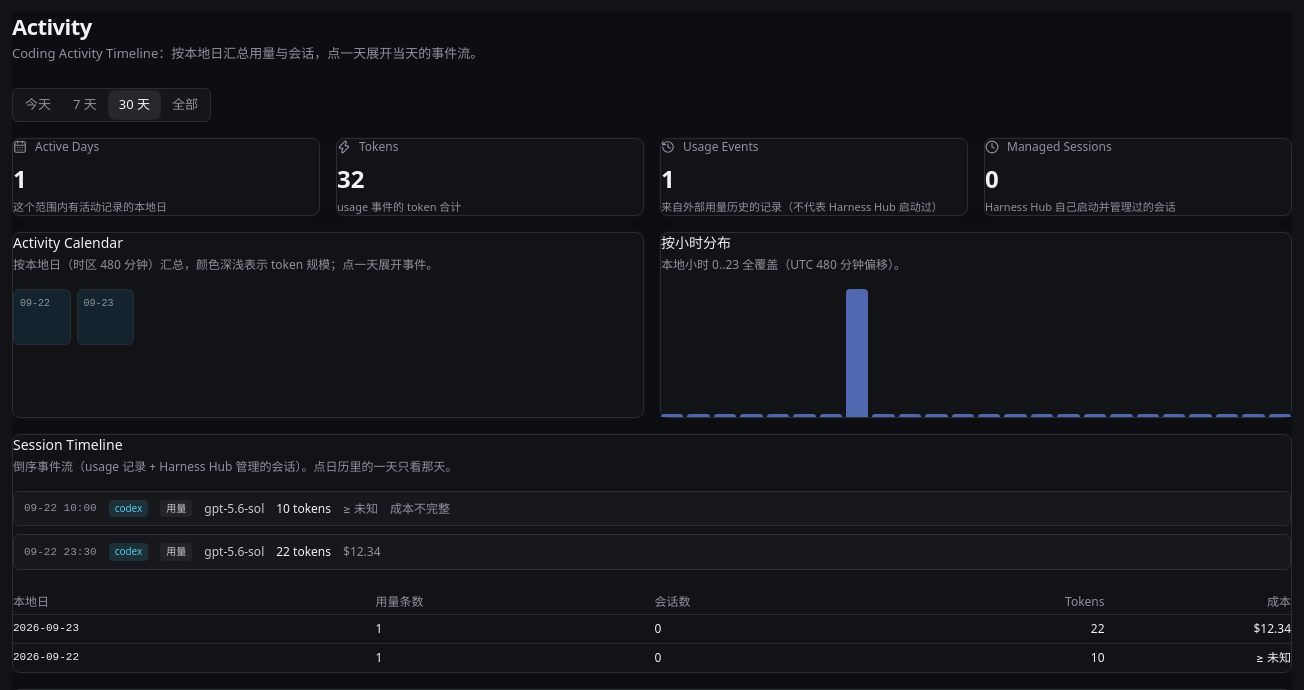
Scenario: ActivityPage › 点日历里的一天只显示那一天的事件
Click the button titled "2026-09-22 周二 · 10 tokens · 1 条用量 · 0 个会话": (42, 317) [13, 289, 71, 345]
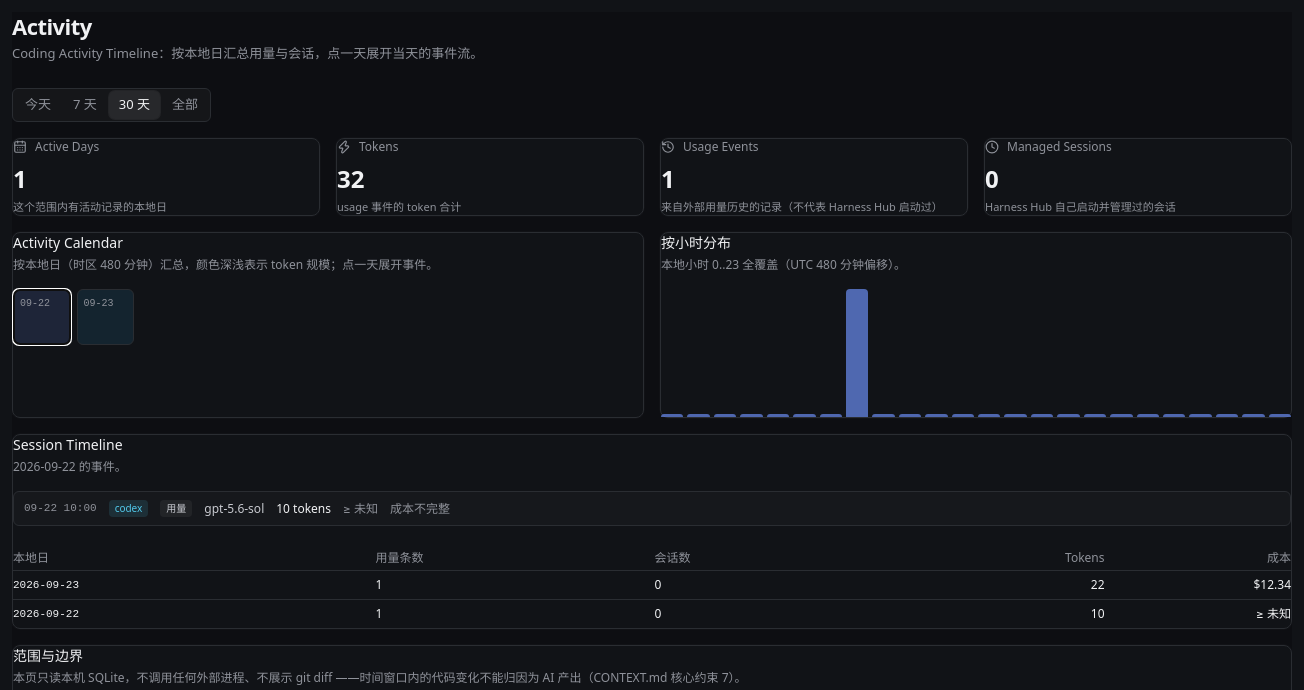
Expected: the text "≥ 未知" is shown, [343, 501, 378, 517]
Expected: the text "2026-09-22 的事件。" is shown, [13, 458, 127, 475]
